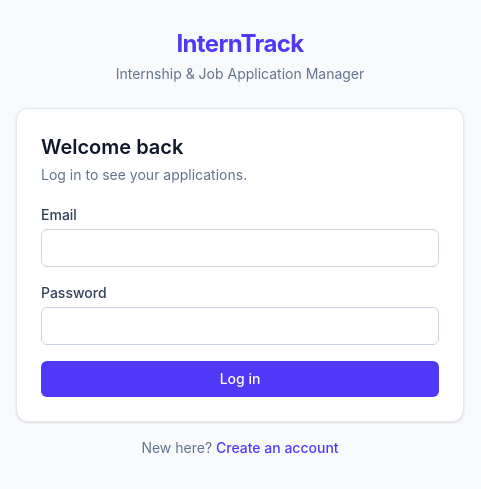
Test case: Login page › shows a friendly message when Firebase rejects the login
Type "a@b.com" into the field labelled "Email".
click(240, 248); type("a@b.com")  # box x1=41 y1=229 x2=439 y2=267
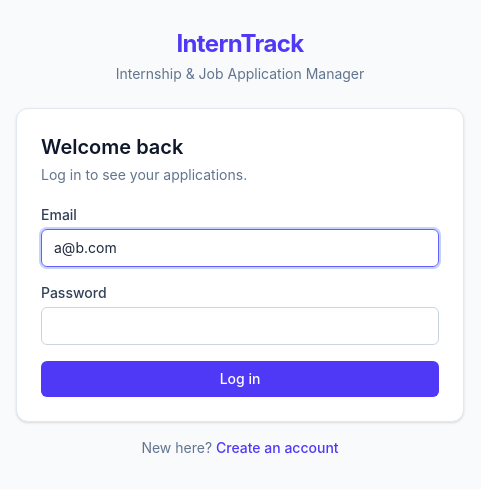
Type "wrong" into the password field labelled "Password".
click(240, 326); type("wrong")  # box x1=41 y1=307 x2=439 y2=345
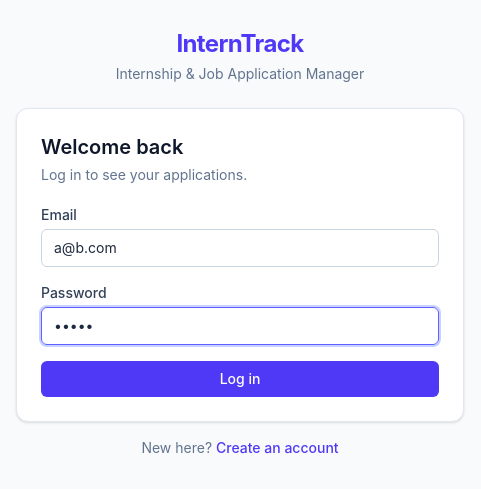
Click the button "Log in".
click(240, 379)  # box x1=41 y1=361 x2=439 y2=397
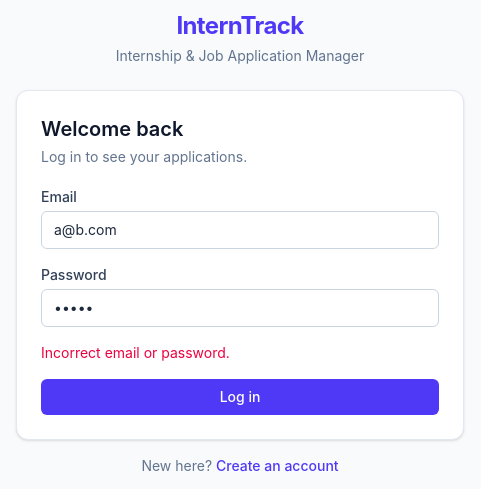
Expected: the button "Log in" is enabled, x1=41 y1=379 x2=439 y2=415
Expected: the message reads "Incorrect email or password.", x1=41 y1=344 x2=230 y2=361
